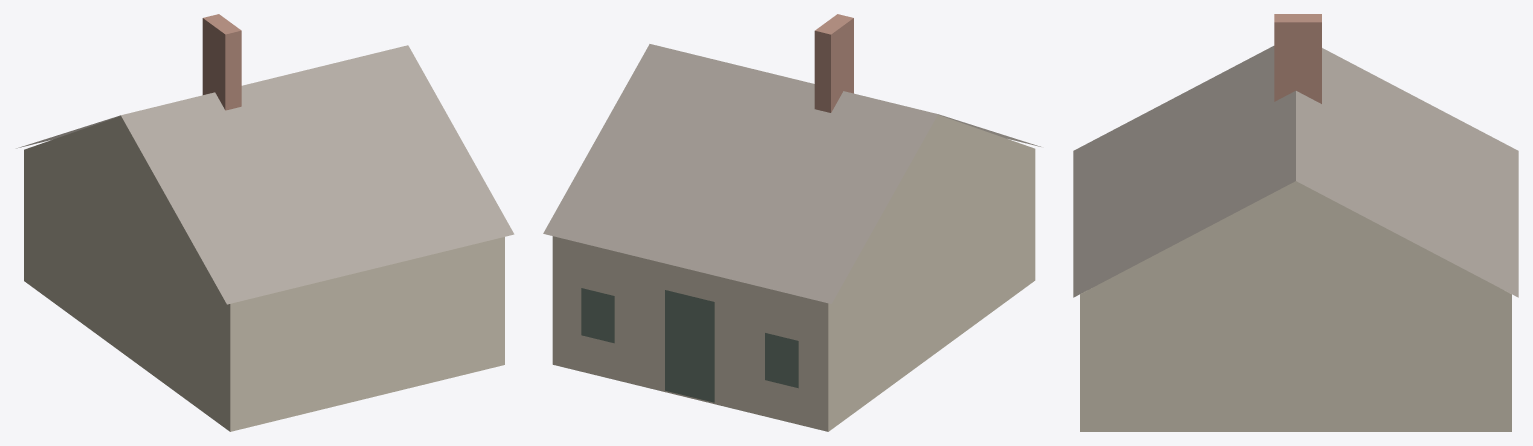
Rendered from recon_1835_north_d4_043__recommended_1835.glb.
3 views of the same model, side by side, from view 1: azimuth 30°, elevation 25°; view 2: azimuth 150°, elevation 25°; view 3: azimuth 270°, elevation 25° (orthographic). The views are drawn at different scales.
Parts seen in each view (by area): view 1: recon_1835_north_d4_043__recommended_1835; view 2: recon_1835_north_d4_043__recommended_1835; view 3: recon_1835_north_d4_043__recommended_1835.
Boxes of the visible parts, x1,y1,x2,y2 form: recon_1835_north_d4_043__recommended_1835: (16, 14, 514, 431); recon_1835_north_d4_043__recommended_1835: (543, 14, 1040, 431); recon_1835_north_d4_043__recommended_1835: (1073, 14, 1518, 431).
Size of the model in its own units: 6.38 by 6.53 by 8.17.
